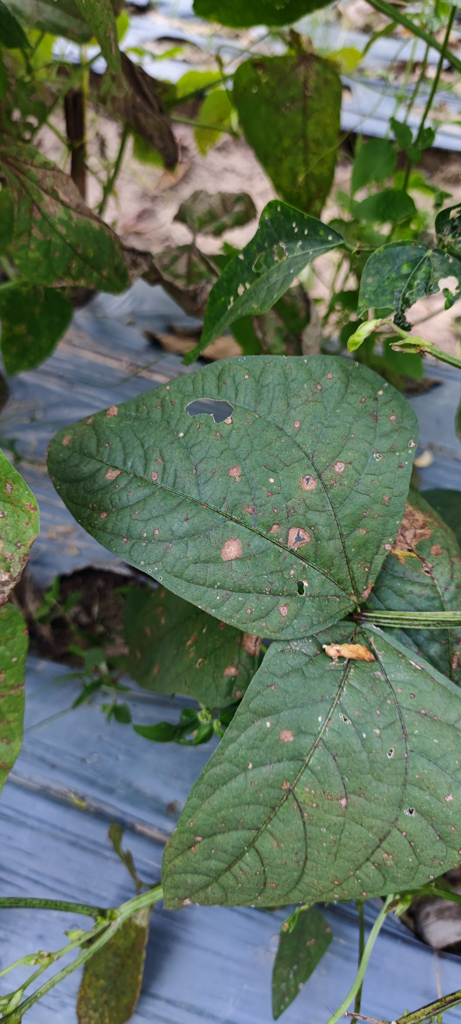Rust: (51, 359, 407, 635), (149, 648, 451, 924), (14, 148, 141, 303), (227, 60, 354, 214)
